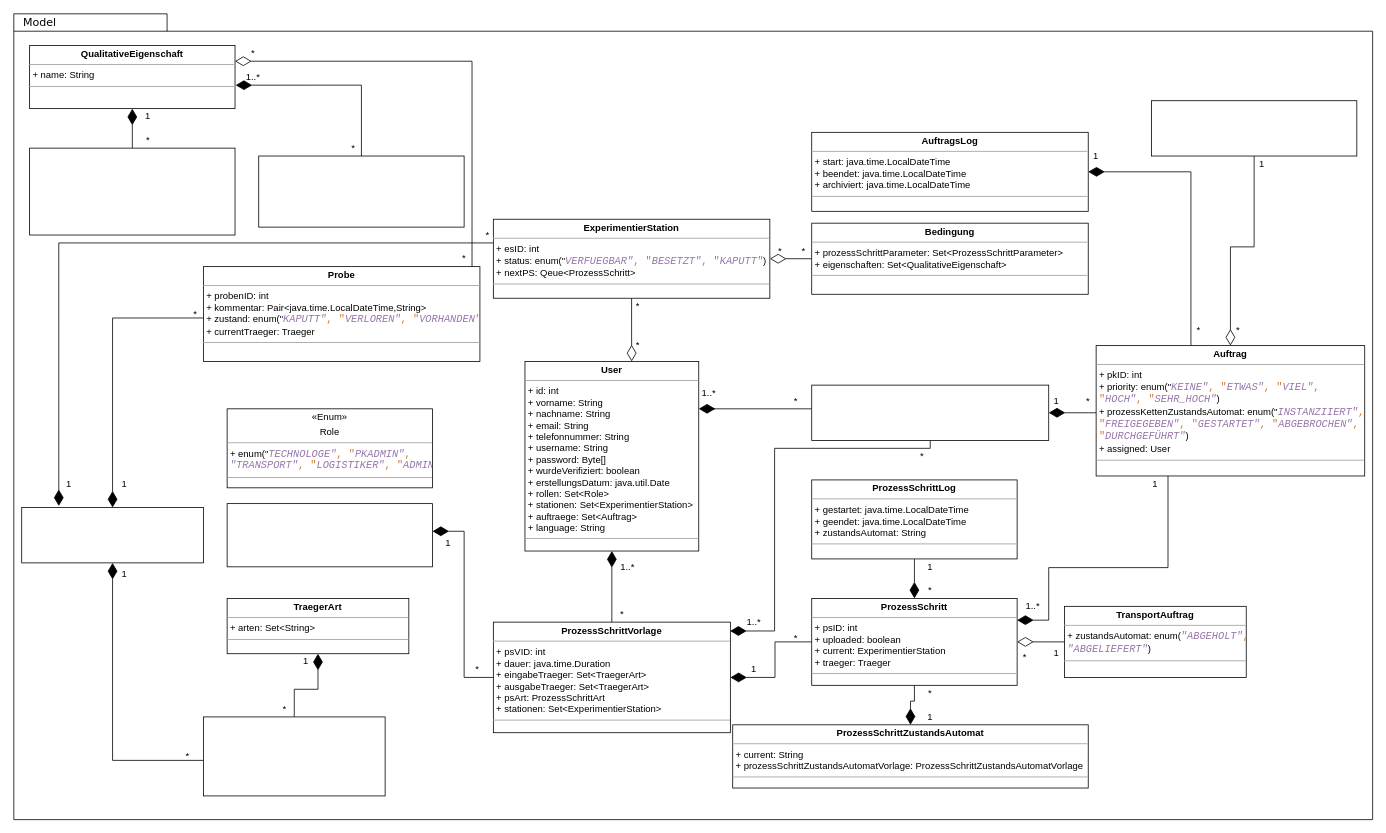
This 1386x833 diagram has some shape labels left out. The shapes that lost their labels are listed below. From the top down, each one's centre as x and y in pixels, then its label:
(x=1254, y=128): Archiv + datum: java.time.LocalDateTime
(x=132, y=191): «extends» QuantitativeEigenschaft + wert: java.lang.Number + einheit: si.uom.SI
(x=361, y=191): ProzessSchrittParameter + name: String
(x=930, y=412): ProzessKettenVorlage + pkID: int
(x=112, y=535): Standort + ort: String
(x=329, y=535): ProzessSchrittZustandsAutomatVorlage + zustaende: Set<String>
(x=294, y=756): Traeger + id: int + zugewiesenerAuftrag: Auftrag + proben: Set<Probe>
